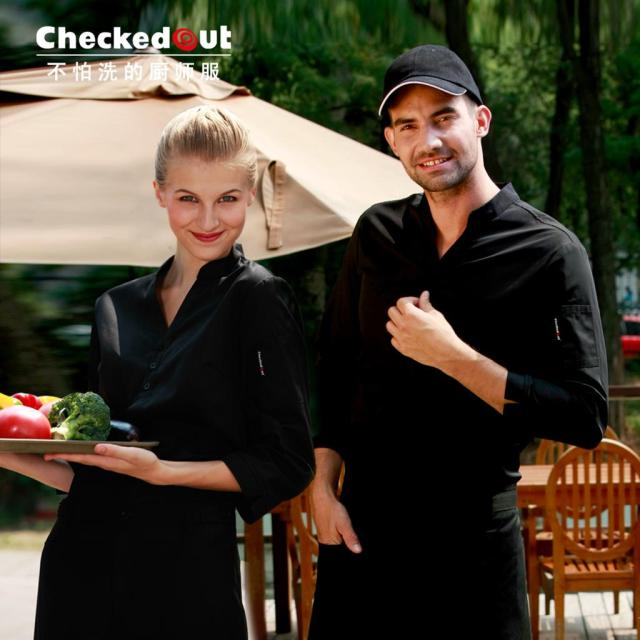Face: (381, 94, 485, 191), (168, 145, 249, 261)
